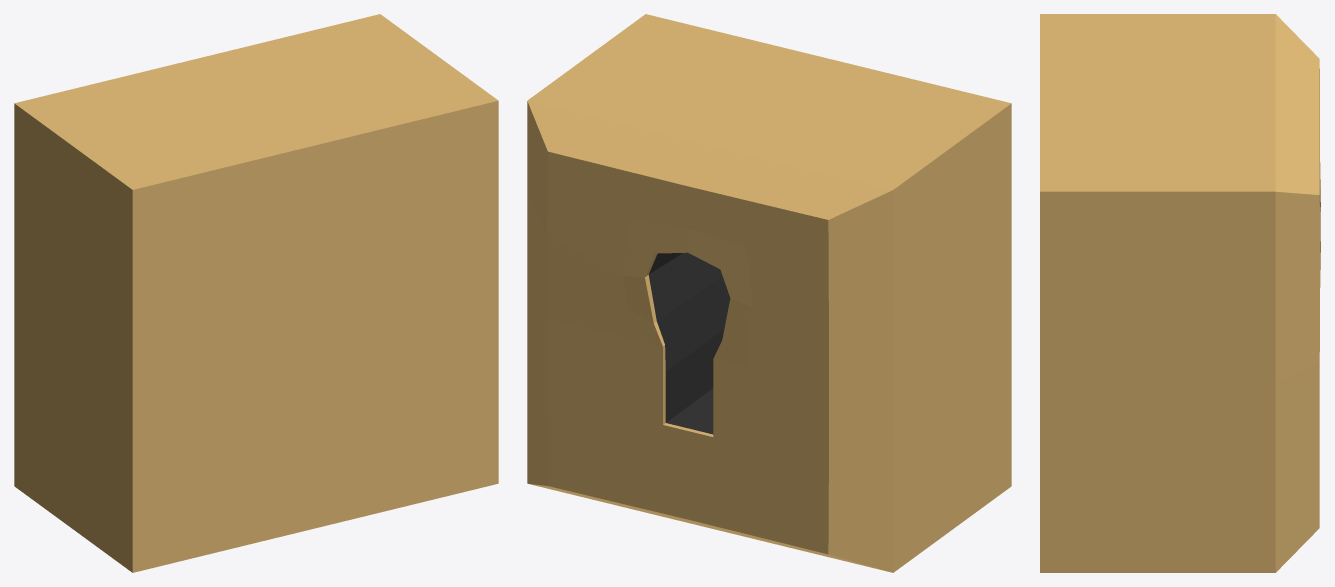
Rendered from Lock.fbx.
The picture shows the model from 3 angles, left to right: view 1: azimuth 30°, elevation 25°; view 2: azimuth 150°, elevation 25°; view 3: azimuth 270°, elevation 25°; orthographic projection.
Parts seen in each view (by area): view 1: Cube; view 2: Cube; view 3: Cube.
Part boxes in pixels (left/top/right/bottom): Cube: left=14, top=14, right=498, bottom=572; Cube: left=527, top=14, right=1011, bottom=572; Cube: left=1040, top=14, right=1320, bottom=572.
Size of the model in its own units: 36.48 by 36.48 by 24.35.
